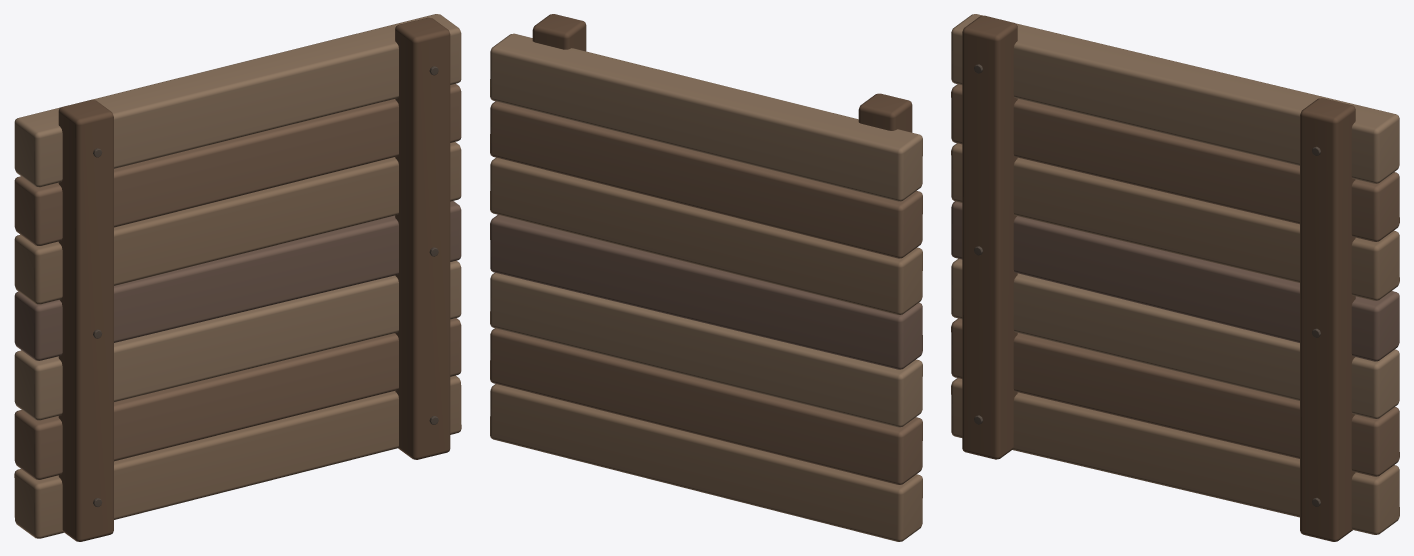
The model's file is TrenchTimber.fbx.
3 renders of one model, left to right at view 1: azimuth 30°, elevation 25°; view 2: azimuth 150°, elevation 25°; view 3: azimuth 330°, elevation 25°, orthographic. The views are drawn at different scales.
Parts seen in each view (by area): view 1: TrenchTimber; view 2: TrenchTimber; view 3: TrenchTimber.
Part boxes in pixels (bbox=[...]): TrenchTimber: bbox=[14, 14, 461, 541]; TrenchTimber: bbox=[490, 14, 922, 541]; TrenchTimber: bbox=[951, 14, 1399, 541].
Bounding box in the file's own units: 1.75 × 1.66 × 0.2895.
